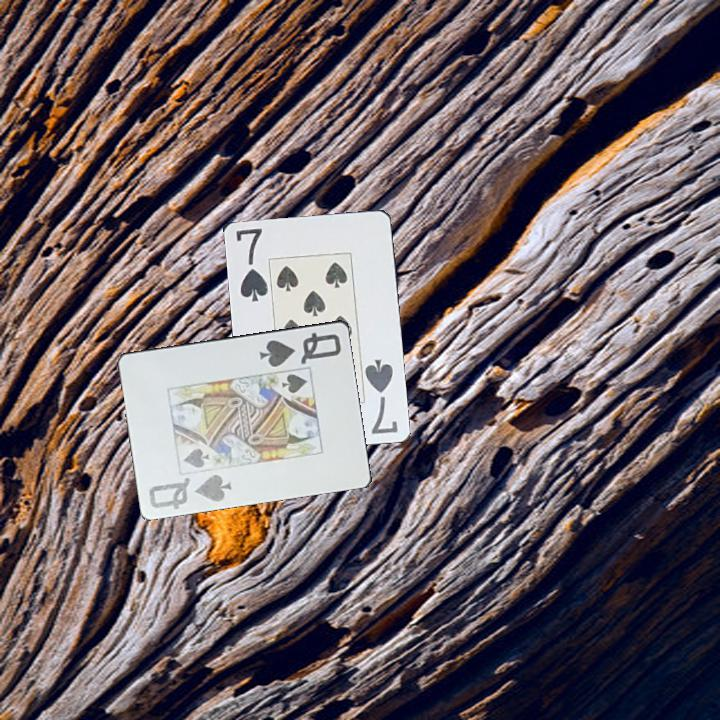7s: (361, 355, 400, 437), (232, 225, 270, 304)
Qs: (145, 469, 234, 513), (256, 328, 344, 370)
